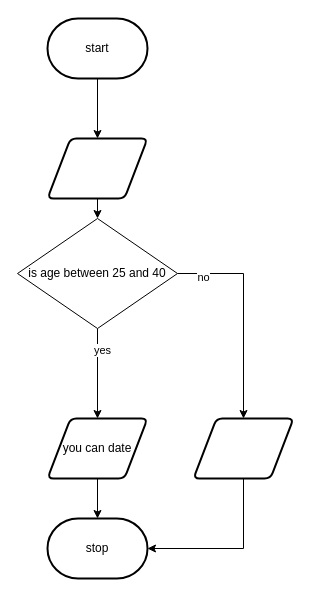
This 312x596 diagram has some shape labels left out. The box of each missing label's shape, as (x1, y1, x2, y2) in pixels:
get age: (46, 137, 148, 199)
you cant date: (192, 417, 294, 479)
